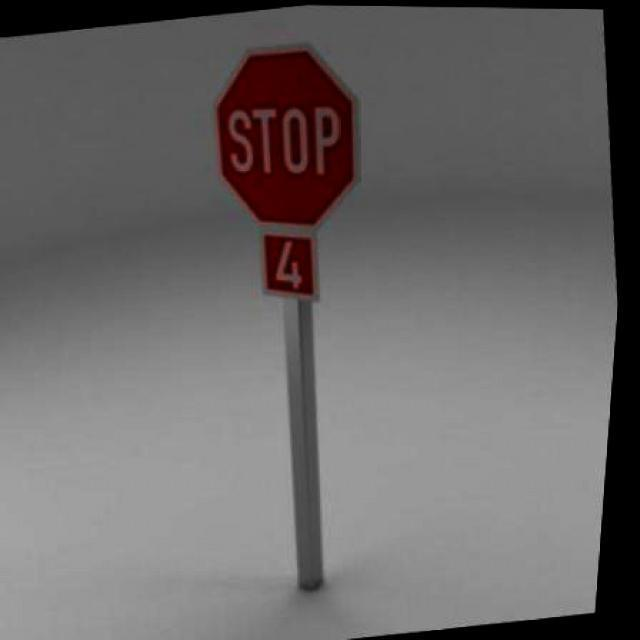Stop-Sign: (218, 50, 356, 224)
